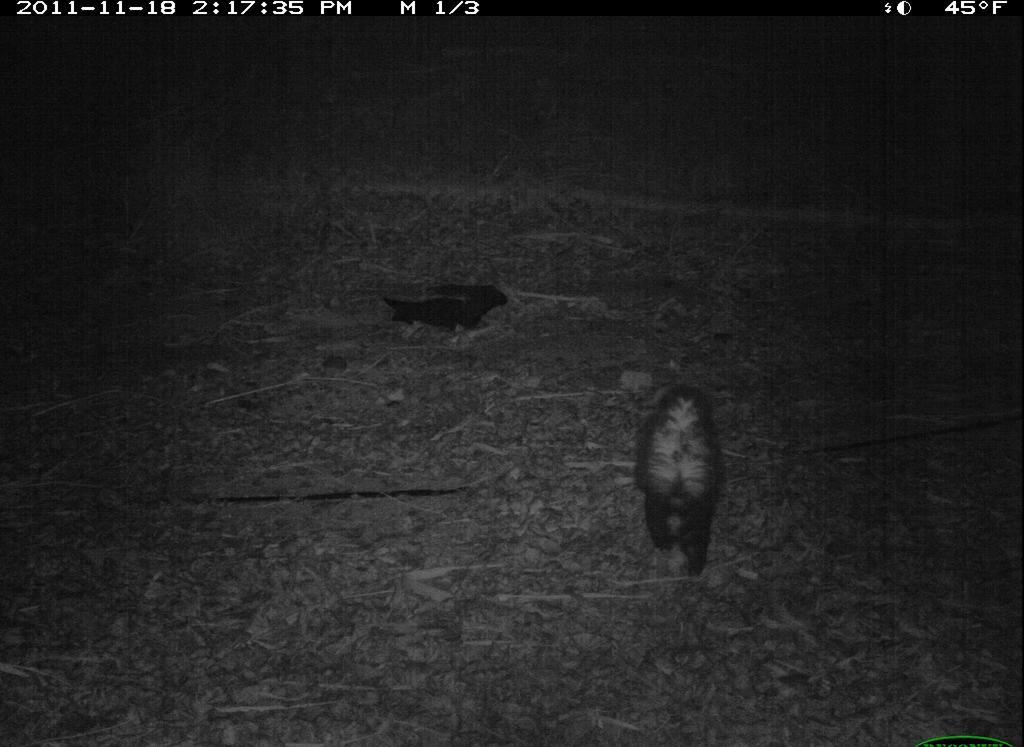skunk: (625, 385, 729, 578)
